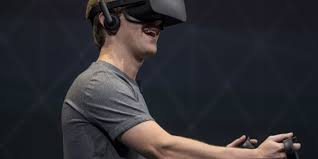oculus: (127, 2, 187, 22)
